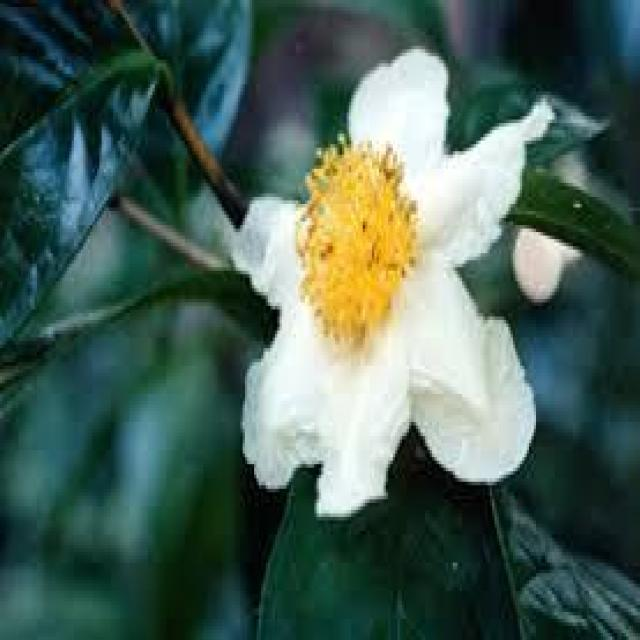organic waste: (231, 56, 548, 514)
